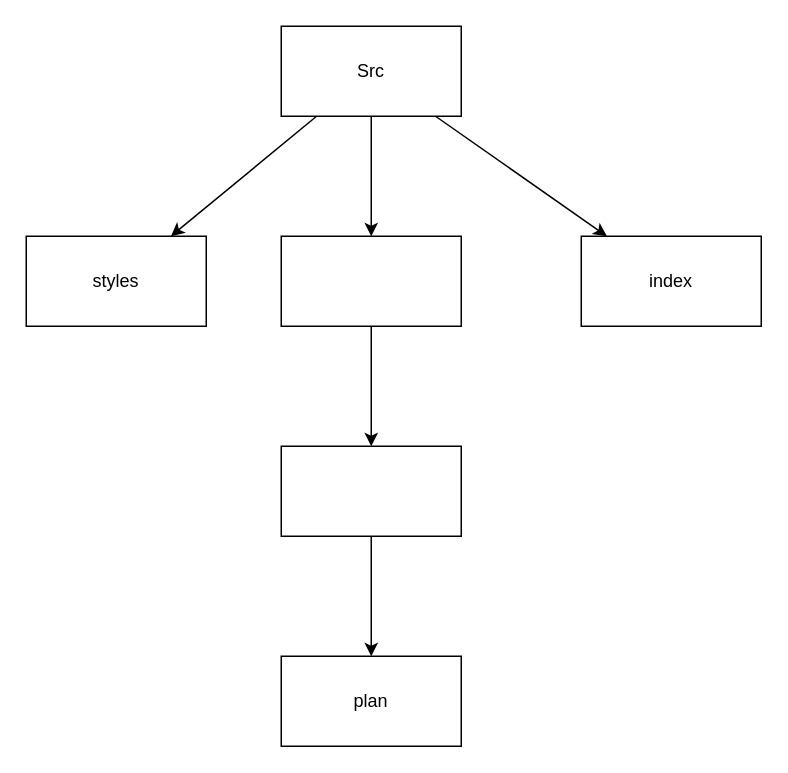
Some shapes in this 788 by 773 pixel diagram are drawn without their labels. The centre of each missing label's shape, as x and y in pixels:
main: pixel 370 490
scripts: pixel 370 280
